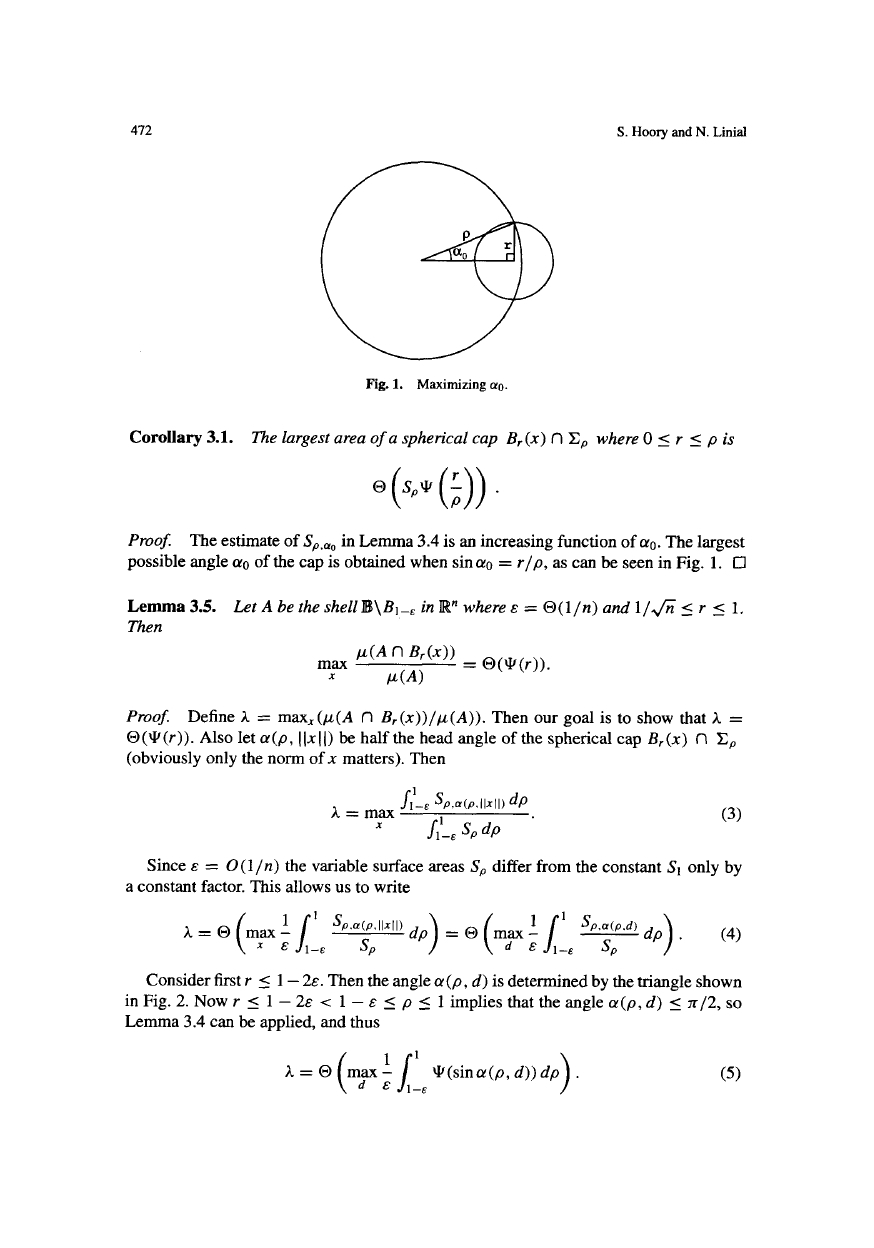figure: (320, 160, 553, 361)
formula: (183, 910, 740, 956), (331, 785, 740, 841), (285, 1048, 740, 1095), (317, 643, 549, 685), (373, 465, 498, 510)
